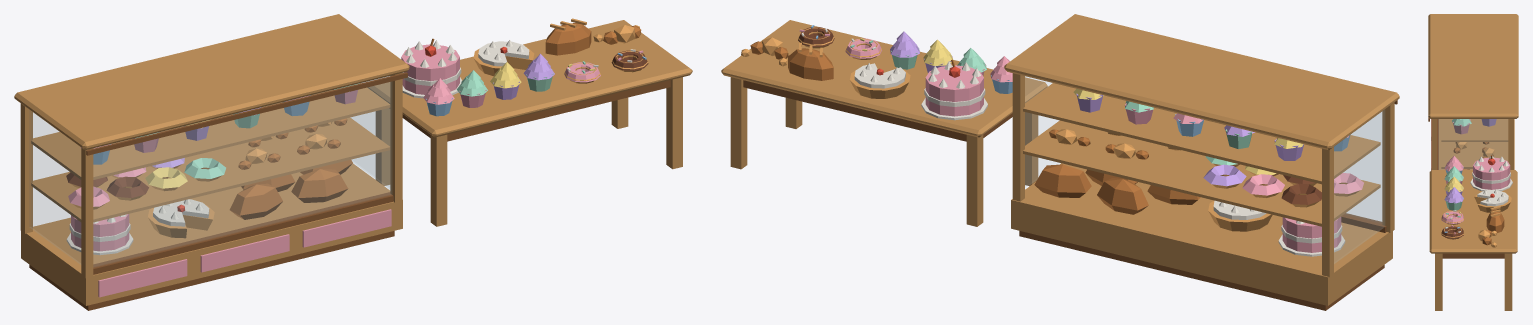
File: bakery-display-set.glb
The picture shows the model from 3 angles, left to right: view 1: azimuth 30°, elevation 25°; view 2: azimuth 150°, elevation 25°; view 3: azimuth 270°, elevation 25°; orthographic projection. The views are drawn at different scales.
Parts seen in each view (by area): view 1: Glass_Front, Counter_Top, Cabinet, Table_Top, Shelf_1, Shelf_2, Goods_Bottom, Glass_Side, Goods_Middle, Case_Rail, Cake_Layer, Kickplate (+23 smaller); view 2: Counter_Top, Cabinet, Table_Top, Shelf_1, Shelf_2, Goods_Bottom, Glass_Side, Goods_Middle, Cake_Layer, Goods_Top, Kickplate, Glass_Front (+18 smaller); view 3: Counter_Top, Table_Top, Glass_Side.001, Shelf_2, Cake_Layer, Shelf_1, Pie_Cream, Table_Leg.003, Table_Leg.002, Bread_Loaf, Table_Apron.003, Goods_Top (+12 smaller).
Boxes of the visible parts, x1,y1,x2,y2 form: Glass_Front: (93, 82, 391, 266); Counter_Top: (14, 14, 409, 150); Cabinet: (21, 163, 402, 305); Table_Top: (367, 20, 692, 137); Shelf_1: (31, 117, 390, 222); Shelf_2: (31, 83, 390, 179); Goods_Bottom: (66, 159, 352, 255); Glass_Side: (30, 111, 80, 264); Goods_Middle: (66, 118, 347, 209); Case_Rail: (93, 192, 393, 274); Cake_Layer: (401, 38, 462, 98); Kickplate: (29, 231, 394, 310); Counter_Top: (1004, 14, 1399, 150); Cabinet: (1011, 163, 1392, 305); Table_Top: (721, 20, 1047, 137); Shelf_1: (1023, 120, 1380, 226); Shelf_2: (1023, 83, 1380, 184); Goods_Bottom: (1034, 164, 1345, 256); Glass_Side: (1334, 110, 1384, 263); Goods_Middle: (1049, 129, 1363, 207); Cake_Layer: (921, 59, 987, 120); Goods_Top: (1073, 88, 1350, 160); Kickplate: (1019, 231, 1384, 310); Glass_Front: (1344, 112, 1381, 222); Counter_Top: (1428, 14, 1518, 118); Table_Top: (1429, 170, 1517, 253); Glass_Side.001: (1438, 119, 1507, 169); Shelf_2: (1441, 119, 1508, 141); Cake_Layer: (1470, 154, 1512, 191); Shelf_1: (1441, 142, 1508, 168); Pie_Cream: (1474, 189, 1511, 212); Table_Leg.003: (1504, 253, 1512, 310); Table_Leg.002: (1435, 253, 1442, 310); Bread_Loaf: (1486, 206, 1504, 232); Table_Apron.003: (1442, 253, 1504, 258); Goods_Top: (1452, 119, 1496, 134).
Bounding box in the file's own units: 17.36 × 4.72 × 3.5.
